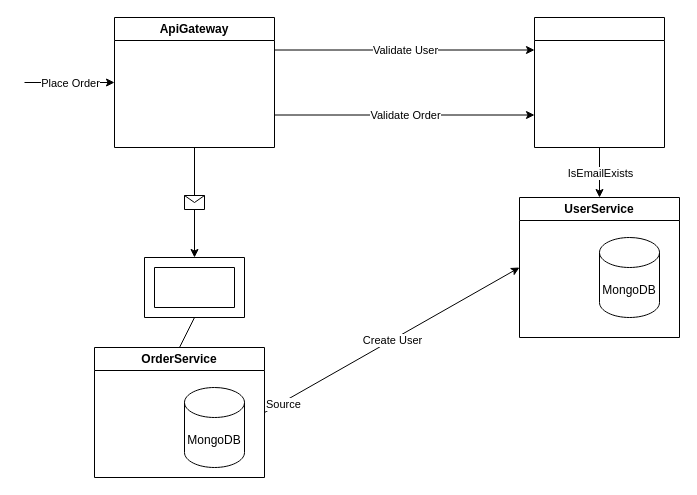
The diagram is 697 pixels wide and 495 high, and some of its shapes have lost their labels. The shapes that lost their labels are listed below. From the top down, each one's centre as x and y in pixels, then its label:
[599,82]: ValidationService
[194,287]: RabbitMQ
